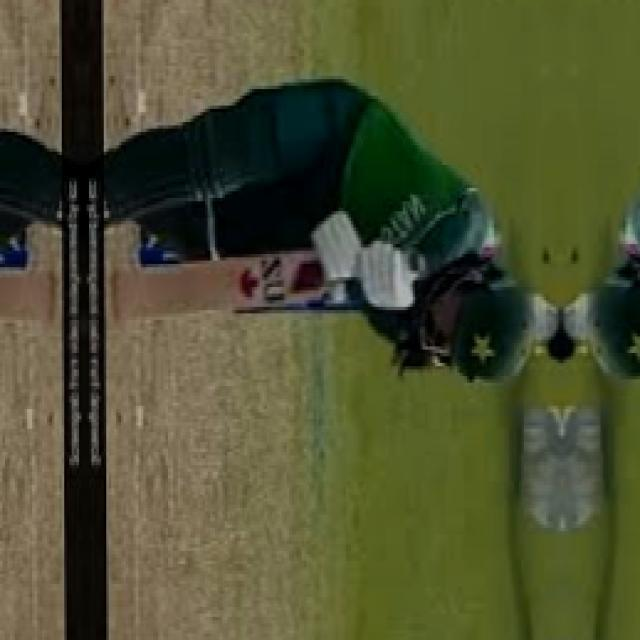bat: (95, 259, 332, 323)
toe: (106, 268, 126, 321)
